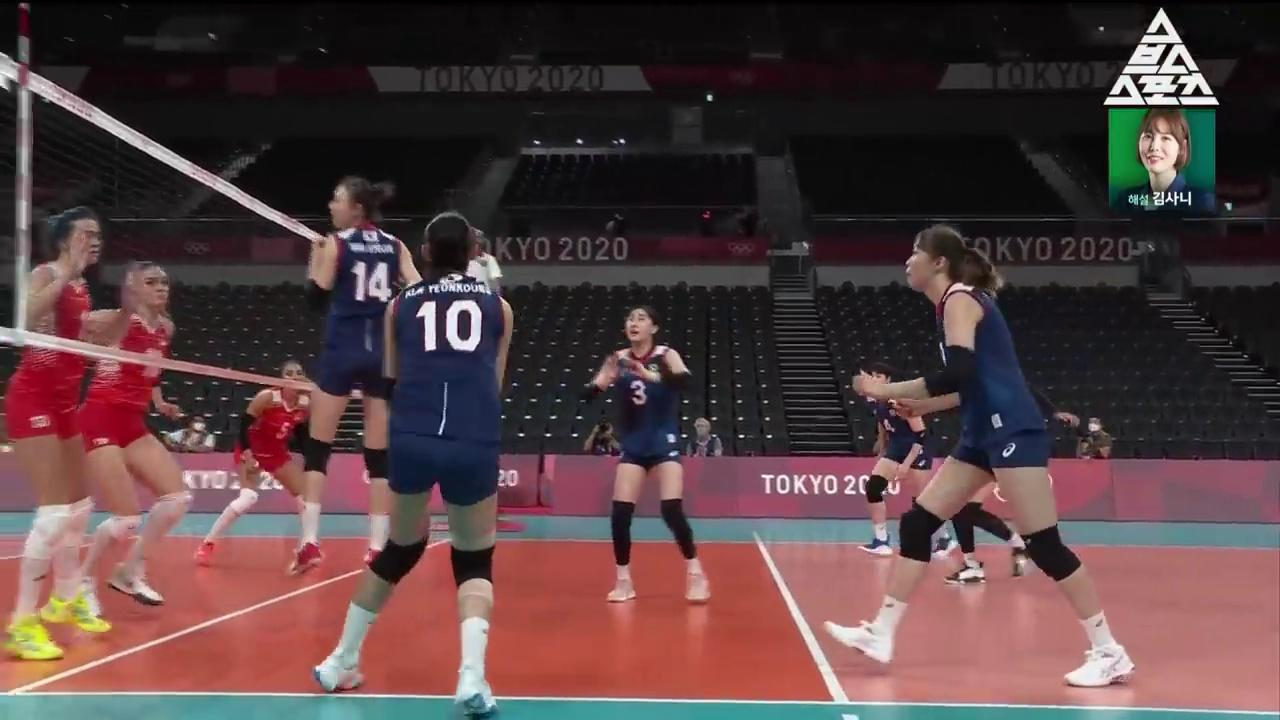player: (825, 226, 1136, 689), (315, 211, 515, 717), (6, 203, 147, 659), (289, 177, 427, 577), (79, 261, 190, 617), (586, 306, 715, 604), (194, 360, 309, 571), (858, 363, 958, 560)
